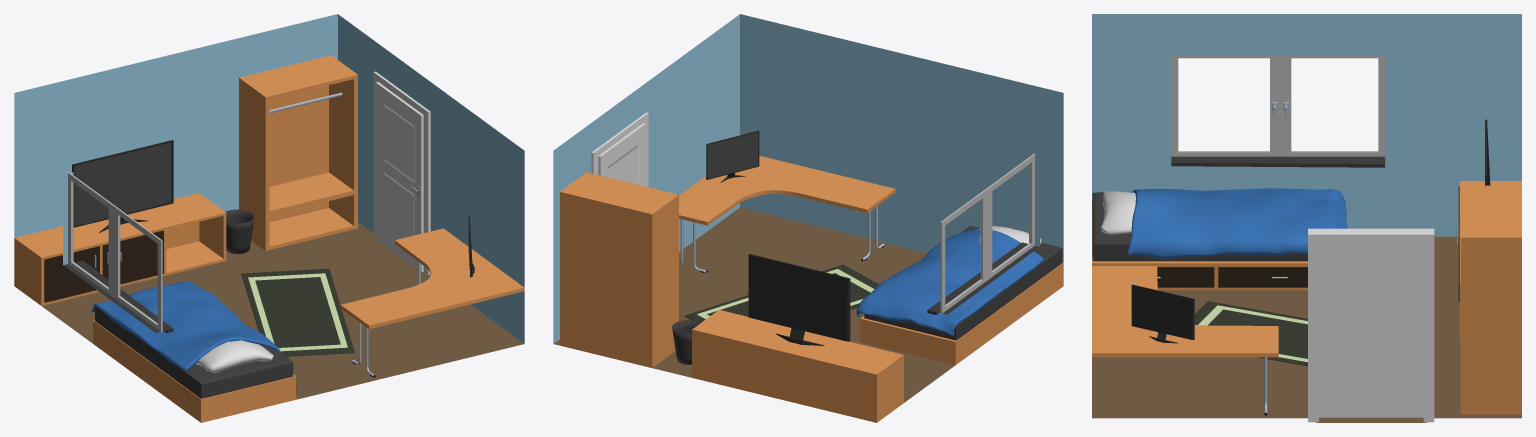
3 renders of one model, left to right at view 1: azimuth 30°, elevation 25°; view 2: azimuth 150°, elevation 25°; view 3: azimuth 270°, elevation 25°, orthographic. The views are drawn at different scales.
Parts seen in each view (by area): view 1: Walls_2, Wardrobe_1, TVDesk_9, DeskPlate_20, Carpet_6, Door_4, Blanket_14, TV_3, BedBase_13, Mattress_15, WindowSill_23, DoorBase_5 (+2 smaller); view 2: Walls_2, Wardrobe_1, TVDesk_9, Blanket_14, TV_3, DeskPlate_20, BedBase_13, WindowSill_23, Mattress_15, Door_4, TV.001_8, Carpet_6 (+2 smaller); view 3: Walls_2, Door_4, Wardrobe_1, Blanket_14, DeskPlate_20, DoorBase_5, WindowSill_23, BedBase_13, Carpet_6, TV.001_8, Mattress_15, Pillow_0 (+1 smaller).
Part boxes in pixels (<box>): Walls_2: <box>14,14,524,399</box>; Wardrobe_1: <box>239,55,357,250</box>; TVDesk_9: <box>14,193,226,305</box>; DeskPlate_20: <box>340,228,524,328</box>; Carpet_6: <box>241,268,354,356</box>; Door_4: <box>376,82,423,272</box>; Blanket_14: <box>92,280,281,370</box>; TV_3: <box>72,140,173,232</box>; BedBase_13: <box>93,320,296,422</box>; Mattress_15: <box>95,306,293,398</box>; WindowSill_23: <box>67,172,162,332</box>; DoorBase_5: <box>373,71,430,274</box>; Walls_2: <box>553,14,1063,402</box>; Wardrobe_1: <box>560,172,678,367</box>; TVDesk_9: <box>692,310,903,422</box>; Blanket_14: <box>856,229,1043,335</box>; TV_3: <box>748,254,850,345</box>; DeskPlate_20: <box>679,155,895,225</box>; BedBase_13: <box>860,263,1063,365</box>; WindowSill_23: <box>940,154,1035,313</box>; Mattress_15: <box>864,225,1062,340</box>; Door_4: <box>598,123,646,186</box>; TV.001_8: <box>706,130,759,182</box>; Carpet_6: <box>684,264,878,322</box>; Walls_2: <box>1092,14,1521,422</box>; Door_4: <box>1319,242,1423,417</box>; Wardrobe_1: <box>1460,185,1521,414</box>; Blanket_14: <box>1127,188,1347,258</box>; DeskPlate_20: <box>1092,266,1278,357</box>; DoorBase_5: <box>1308,228,1434,422</box>; WindowSill_23: <box>1171,55,1385,156</box>; BedBase_13: <box>1092,210,1307,290</box>; Carpet_6: <box>1194,301,1307,366</box>; TV.001_8: <box>1131,284,1194,343</box>; Mattress_15: <box>1092,192,1307,261</box>; Pillow_0: <box>1101,191,1135,234</box>.
Size of the model in its own units: 3.71 by 2 by 3.5.
